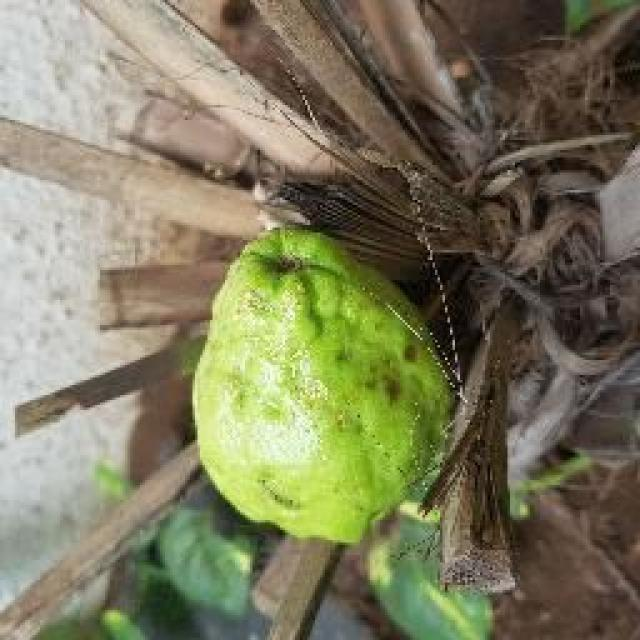Good_Guava: (190, 228, 455, 550)
